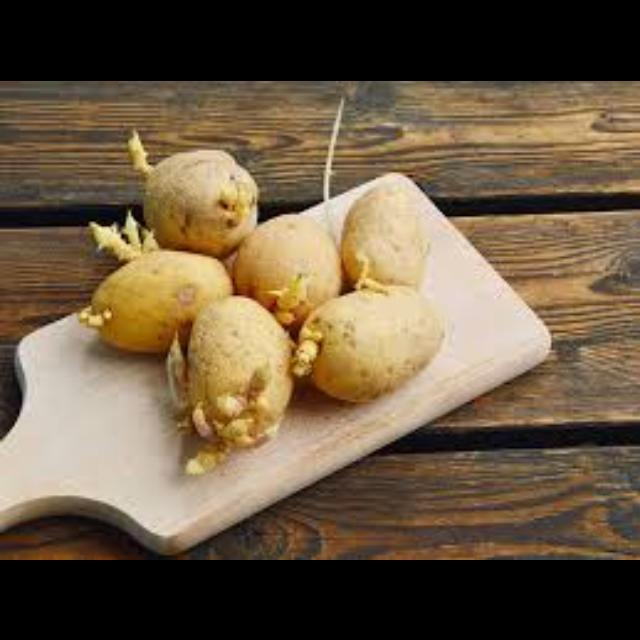Sprouted potato: (150, 283, 312, 483), (48, 222, 232, 358), (291, 278, 451, 412), (212, 200, 352, 328), (130, 129, 266, 259), (326, 168, 440, 284)
